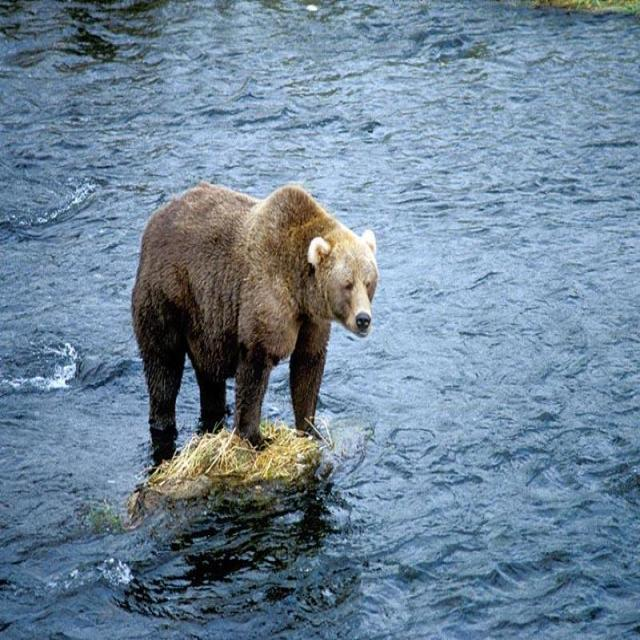Bear: (130, 183, 380, 465)
